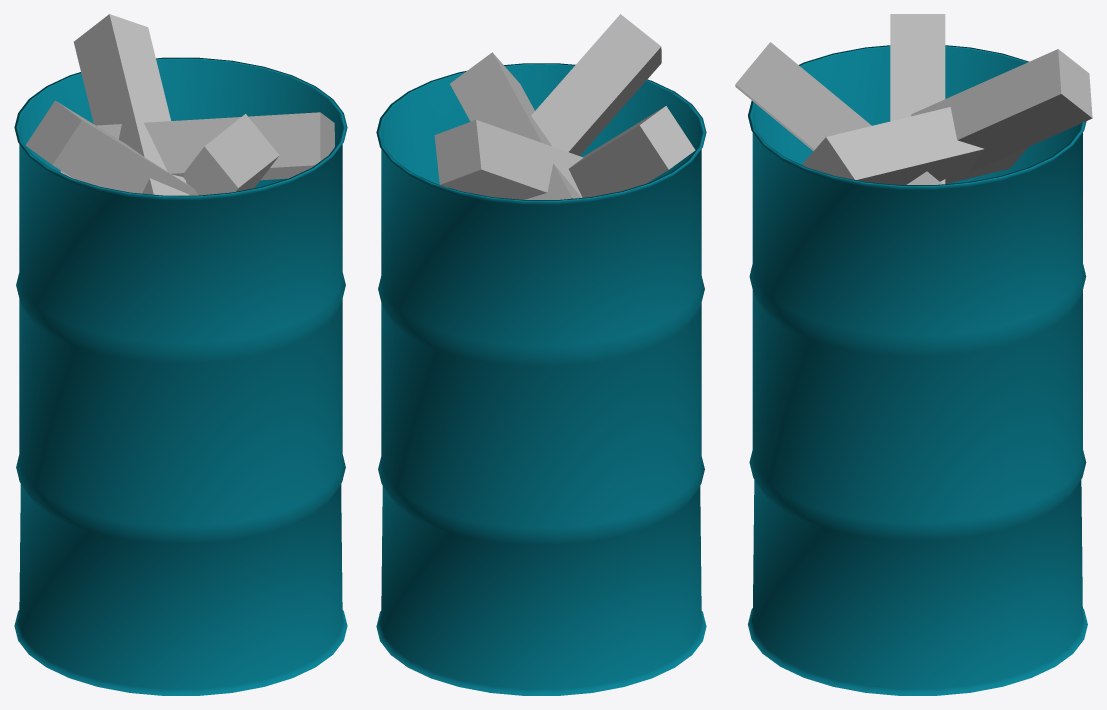
Rendered from Fire_Barrel.fbx.
3 renders of one model, left to right at view 1: azimuth 30°, elevation 25°; view 2: azimuth 150°, elevation 25°; view 3: azimuth 270°, elevation 25°, orthographic. The views are drawn at different scales.
Parts seen in each view (by area): view 1: Barrel, group_pasted__pCube1; view 2: Barrel, group_pasted__pCube1; view 3: Barrel, group_pasted__pCube1.
Boxes of the visible parts, x1=… form: Barrel: x1=14, y1=57, x2=347, y2=695; group_pasted__pCube1: x1=25, y1=14, x2=334, y2=195; Barrel: x1=376, y1=63, x2=706, y2=695; group_pasted__pCube1: x1=434, y1=14, x2=695, y2=199; Barrel: x1=748, y1=45, x2=1087, y2=695; group_pasted__pCube1: x1=735, y1=14, x2=1092, y2=184.
Size of the model in its own units: 24.58 by 46.43 by 25.97.
